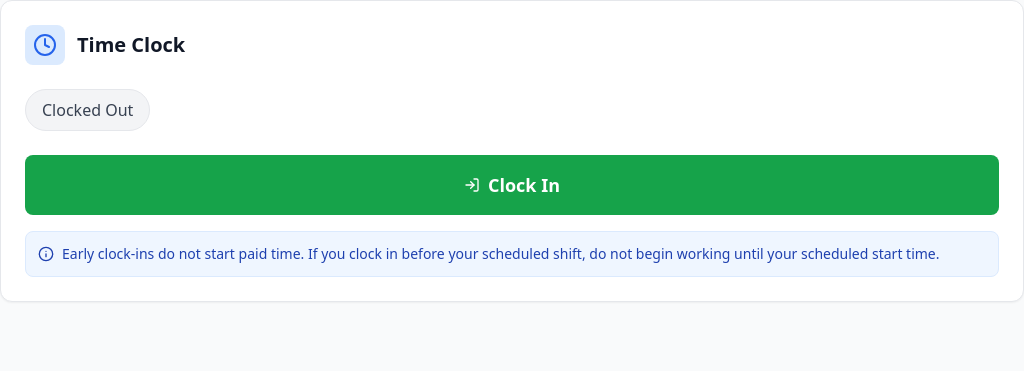
Test: TimeClock — early clock-in policy (Restrict Paid Time to Shift Start) › clocking in early swaps the standing policy for the specific scheduled-start instruction
This screenshot has width=1024, height=371.
Expected: the text "Early clock-ins do not start paid time. If you clock in before your scheduled shift, do not begin working until your sch" is shown, [62,244,940,263]
Click the button "Clock In": (512, 185) [25,155,999,215]
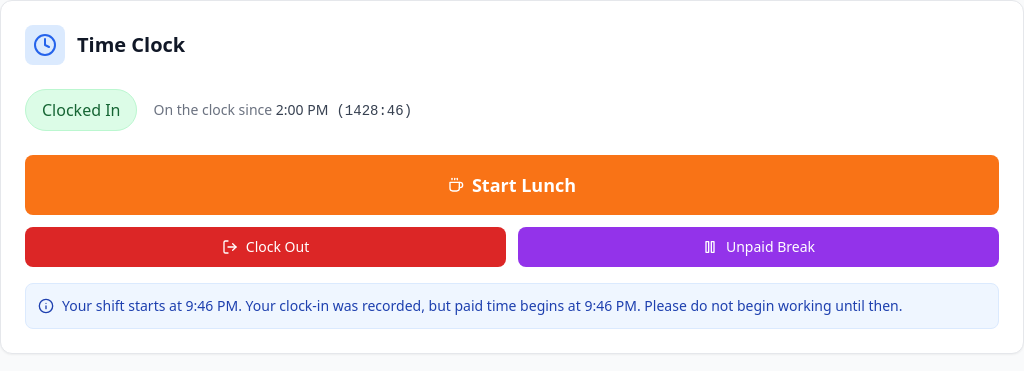
Expected: the text "Early clock-ins do not start paid time. If you clock in before your scheduled shift, do not begin working until your sch" is gone
